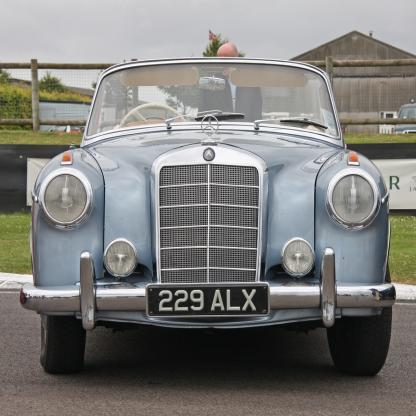Car: (20, 61, 396, 376)
